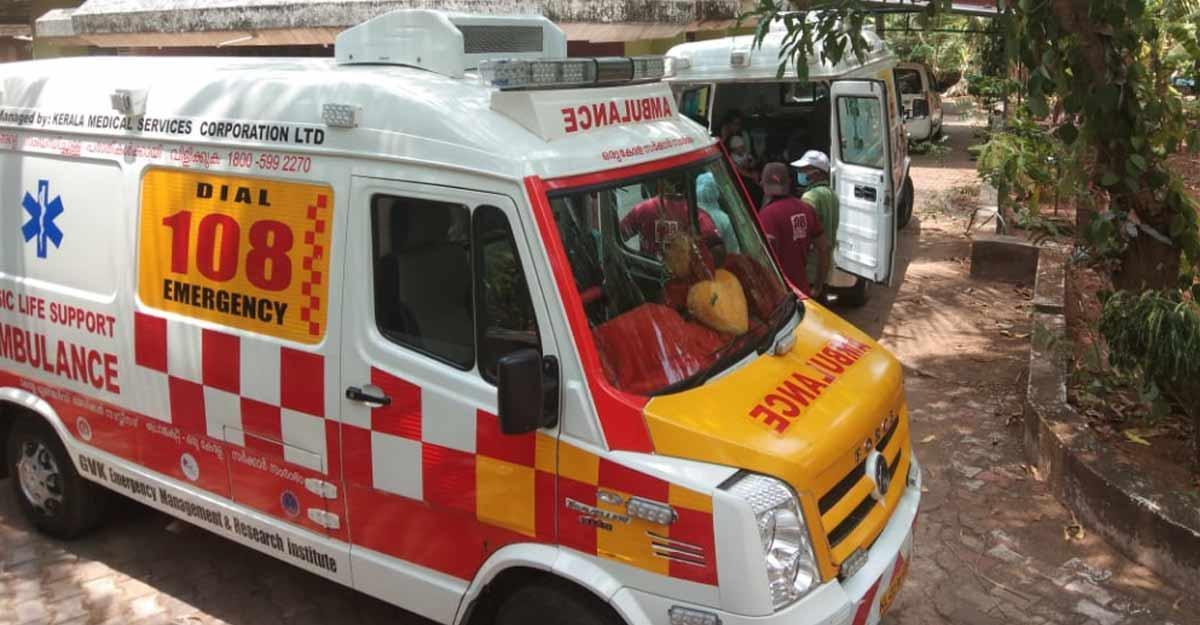ER: (0, 10, 925, 625)
